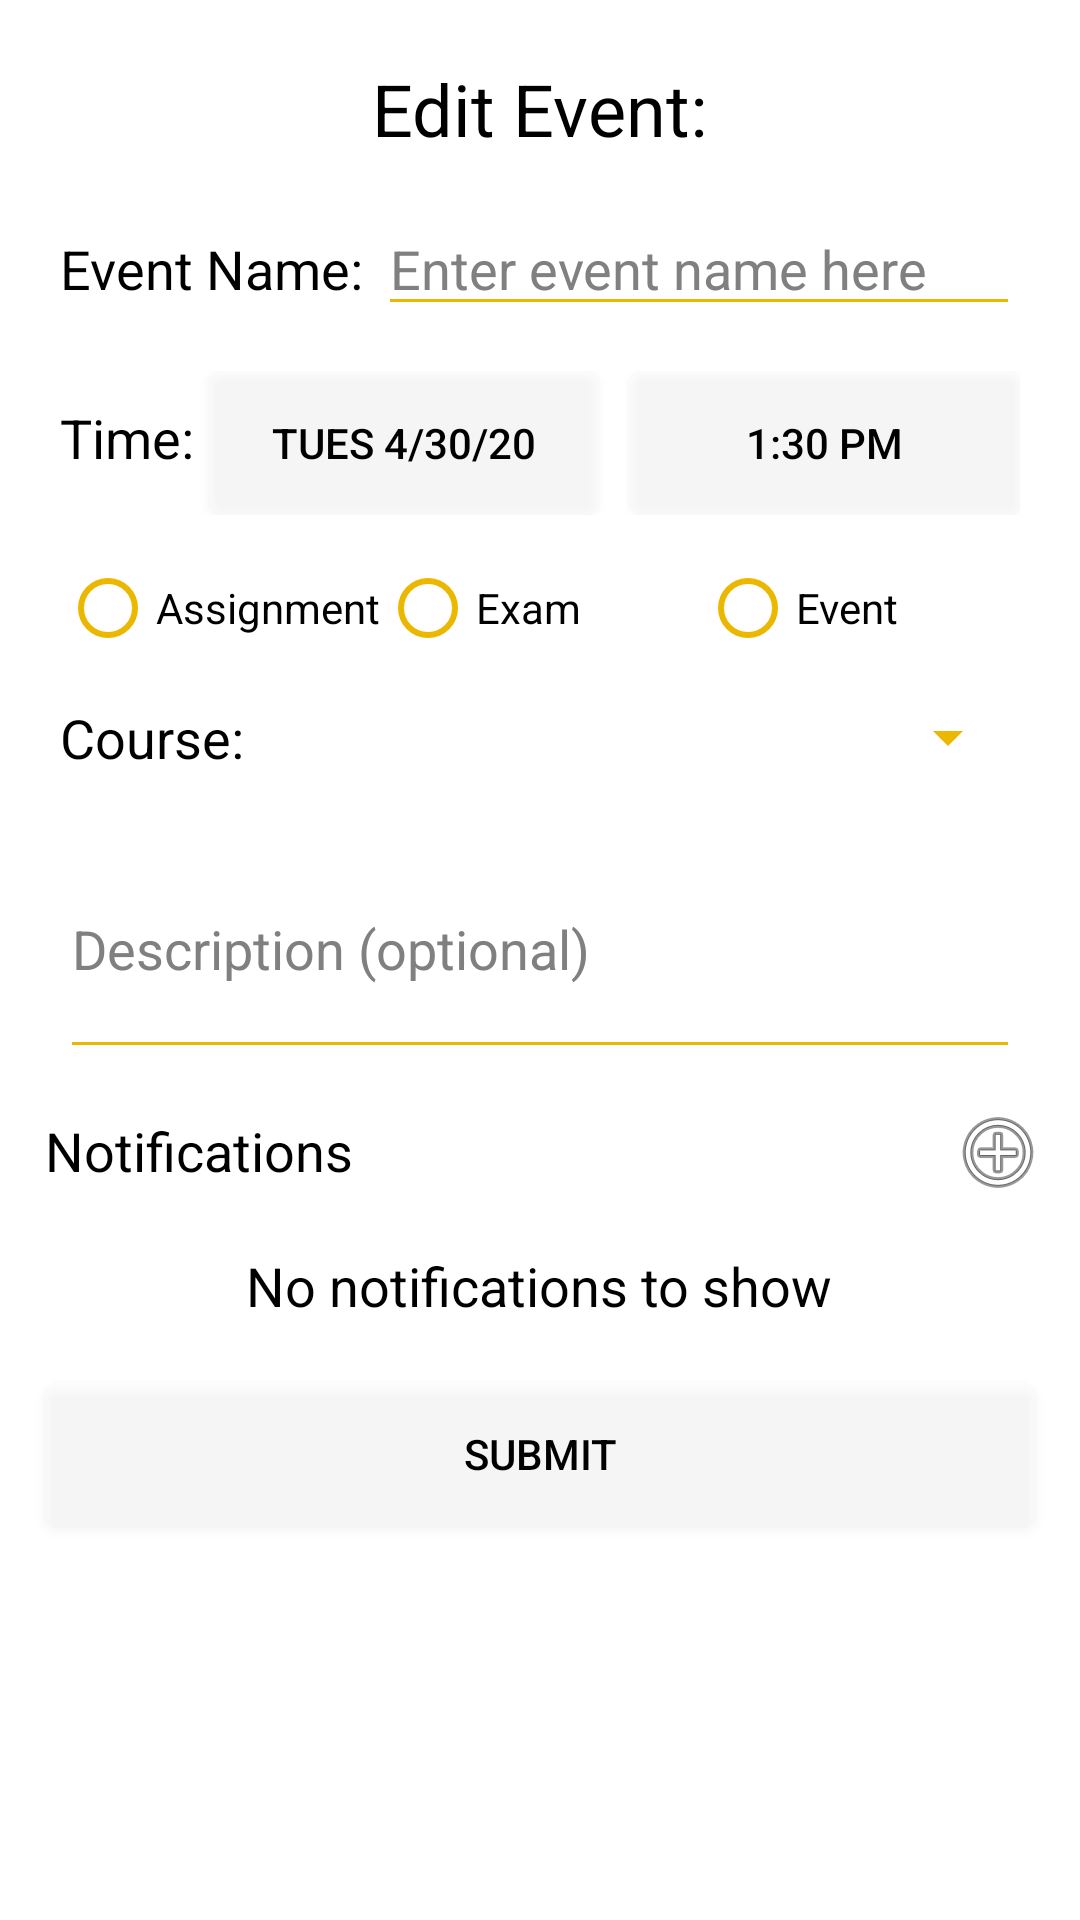

Icons on this 1080px×1920px Android screen, each with the point to tap as point (x, y):
add: point (998, 1152)
